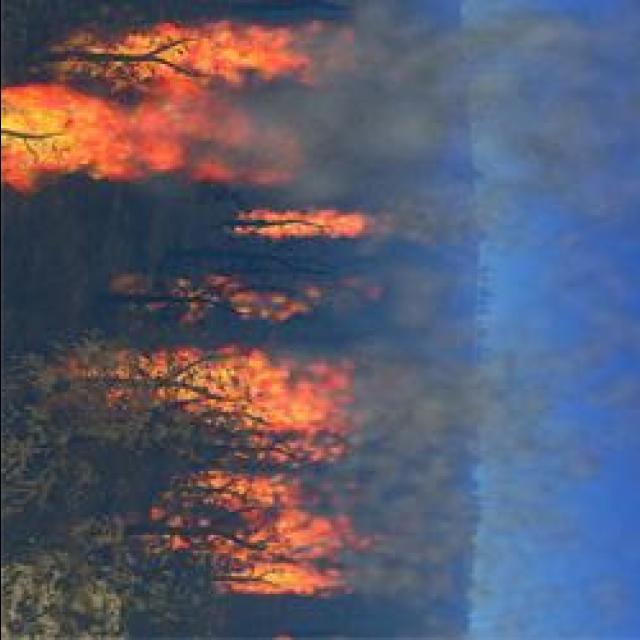fire: (1, 81, 174, 193), (82, 21, 294, 94), (184, 364, 338, 434), (232, 208, 361, 242), (220, 562, 330, 596)
smoke: (344, 333, 546, 621), (299, 12, 615, 195), (364, 203, 518, 329)
